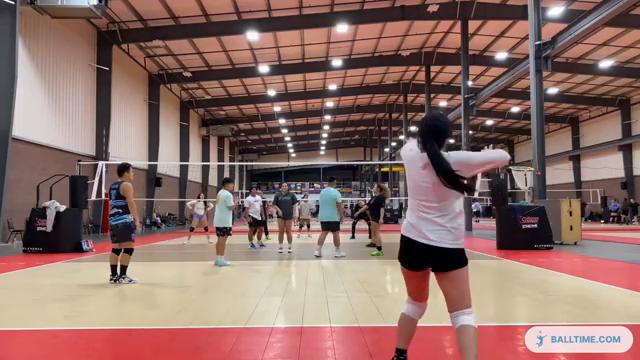Player: (109, 162, 140, 283), (314, 177, 345, 256), (356, 183, 389, 255), (213, 177, 235, 266), (272, 183, 297, 252), (183, 193, 212, 244), (244, 188, 265, 248), (297, 194, 311, 237)
Serve: (386, 109, 511, 359)
